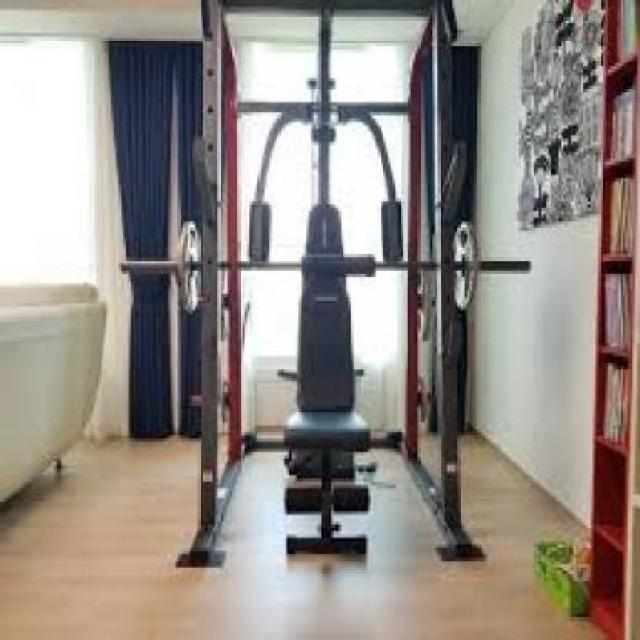smith machine: (188, 0, 483, 568)
